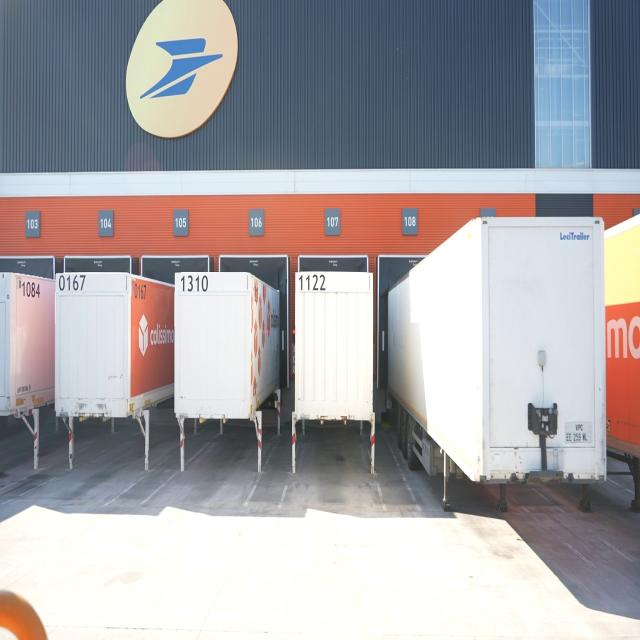Code: (176, 272, 211, 298), (294, 271, 328, 297), (55, 272, 87, 298), (18, 276, 44, 304), (132, 278, 150, 304)
